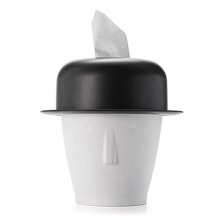plastic_box: (34, 50, 188, 212)
tissue: (85, 4, 135, 61)
